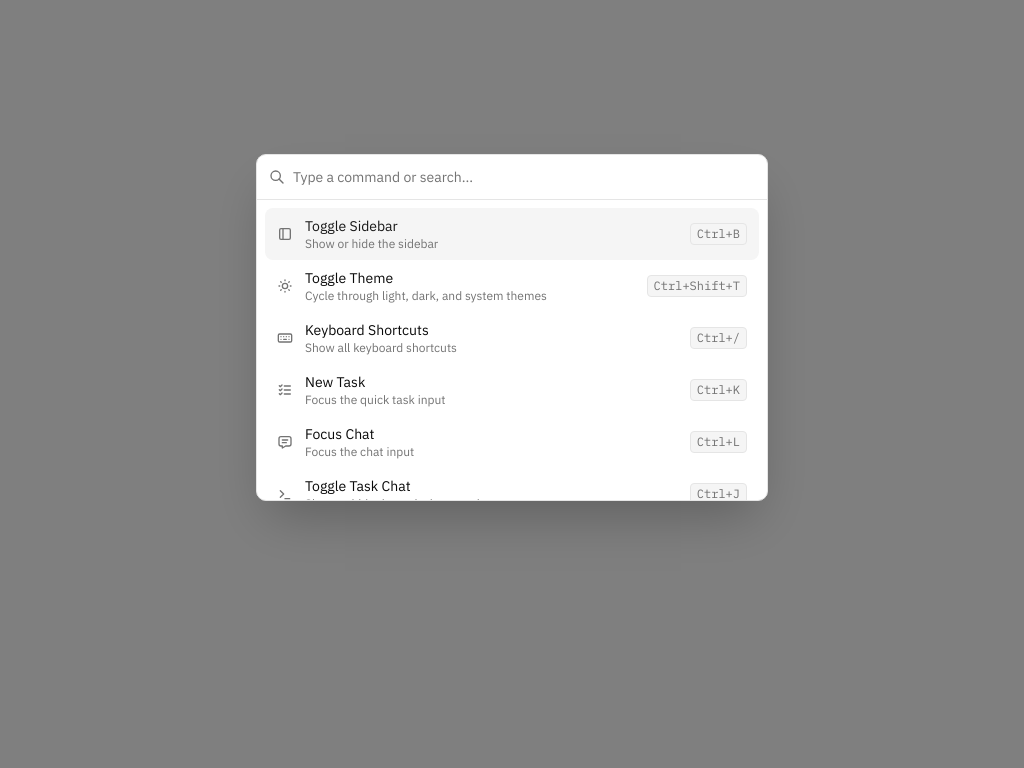
Test: CommandPalette › interactions › filters commands based on search input
The width and height of the screenshot is (1024, 768).
Type "sidebar" into the dropdown with test id "command-input" at (524, 177), box [293,155,755,199]
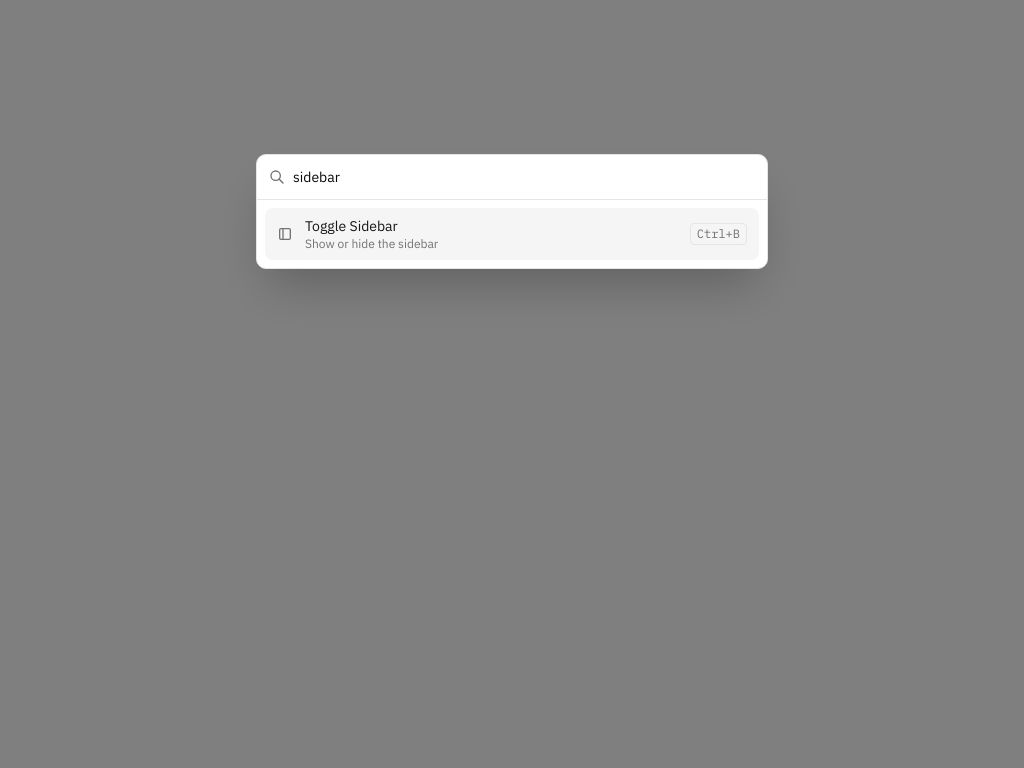
Expected: the text "Toggle Sidebar" is shown, [305,217,398,235]
Result: the option "Toggle Theme" is gone
